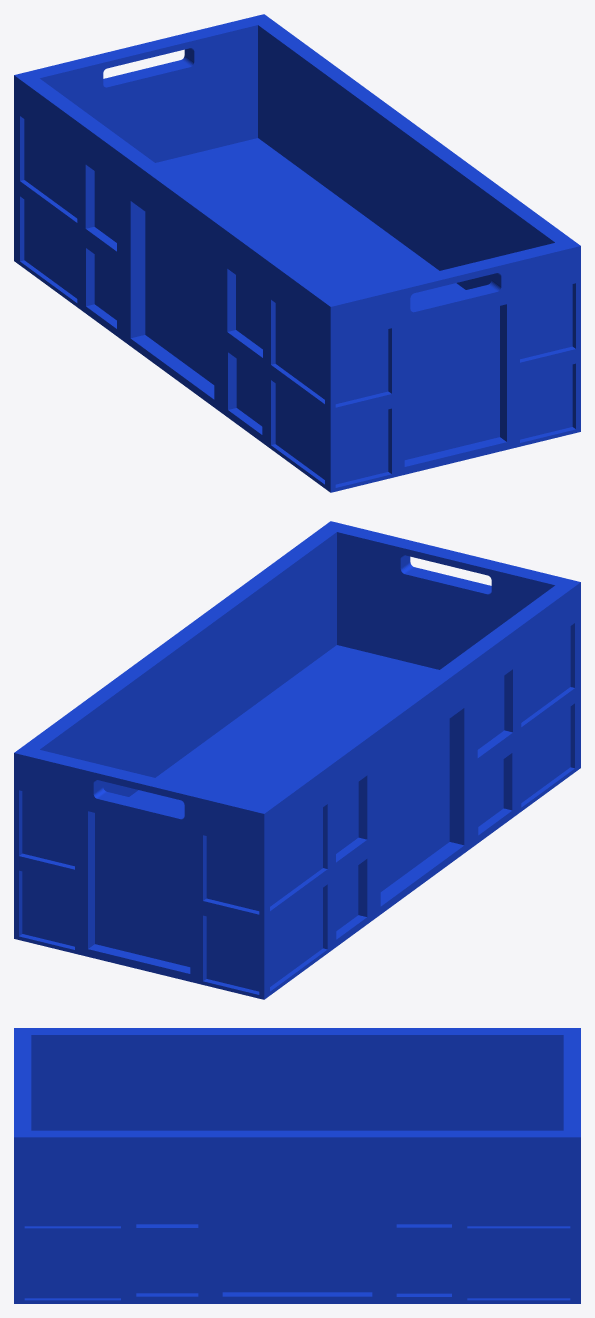
3 renders of one model, top to bottom at view 1: azimuth 30°, elevation 25°; view 2: azimuth 150°, elevation 25°; view 3: azimuth 270°, elevation 25°, orthographic. The views are drawn at different scales.
Visible parts, largest first — view 1: Cube; view 2: Cube; view 3: Cube.
Part boxes in pixels (x1,y1,x2,y2): Cube: (14, 14, 580, 492); Cube: (14, 521, 580, 999); Cube: (14, 1028, 580, 1303).
Bounding box in the file's own units: 282 × 200 × 618.
